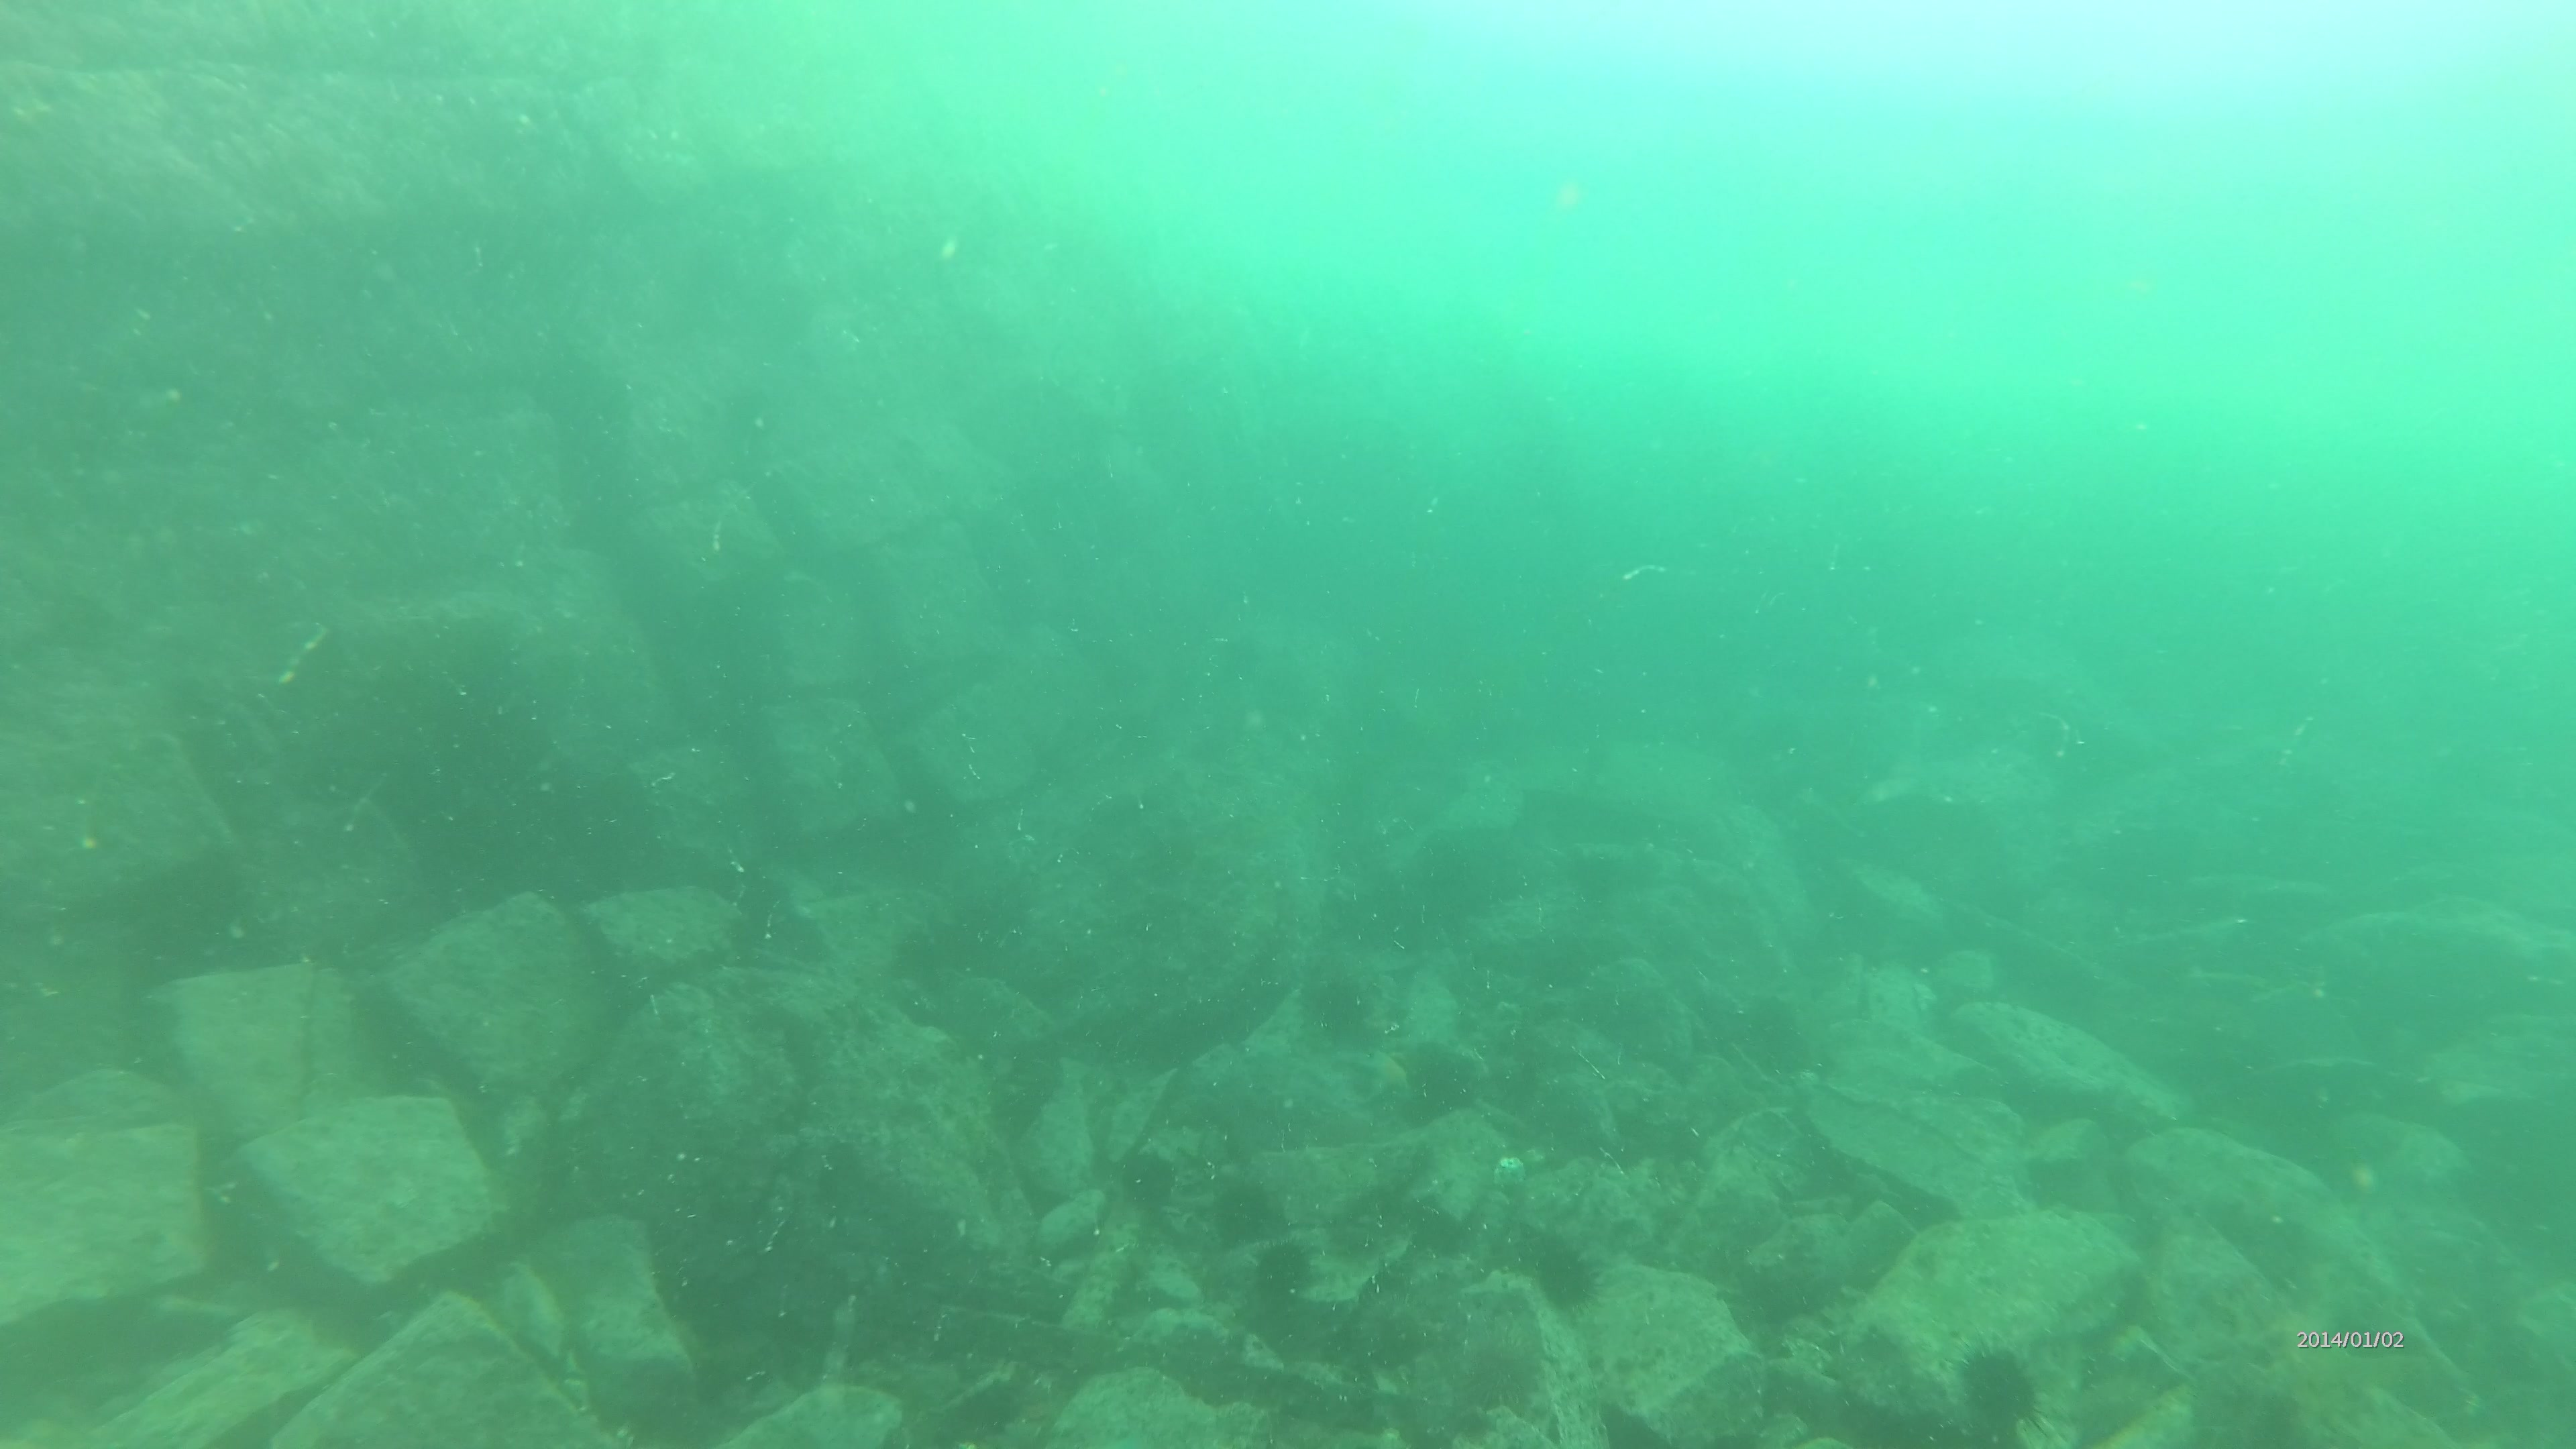echinus: (1946, 1336, 2054, 1447), (1527, 1223, 1619, 1318), (1405, 1035, 1488, 1120), (1113, 1141, 1185, 1231), (1253, 1231, 1320, 1311)
